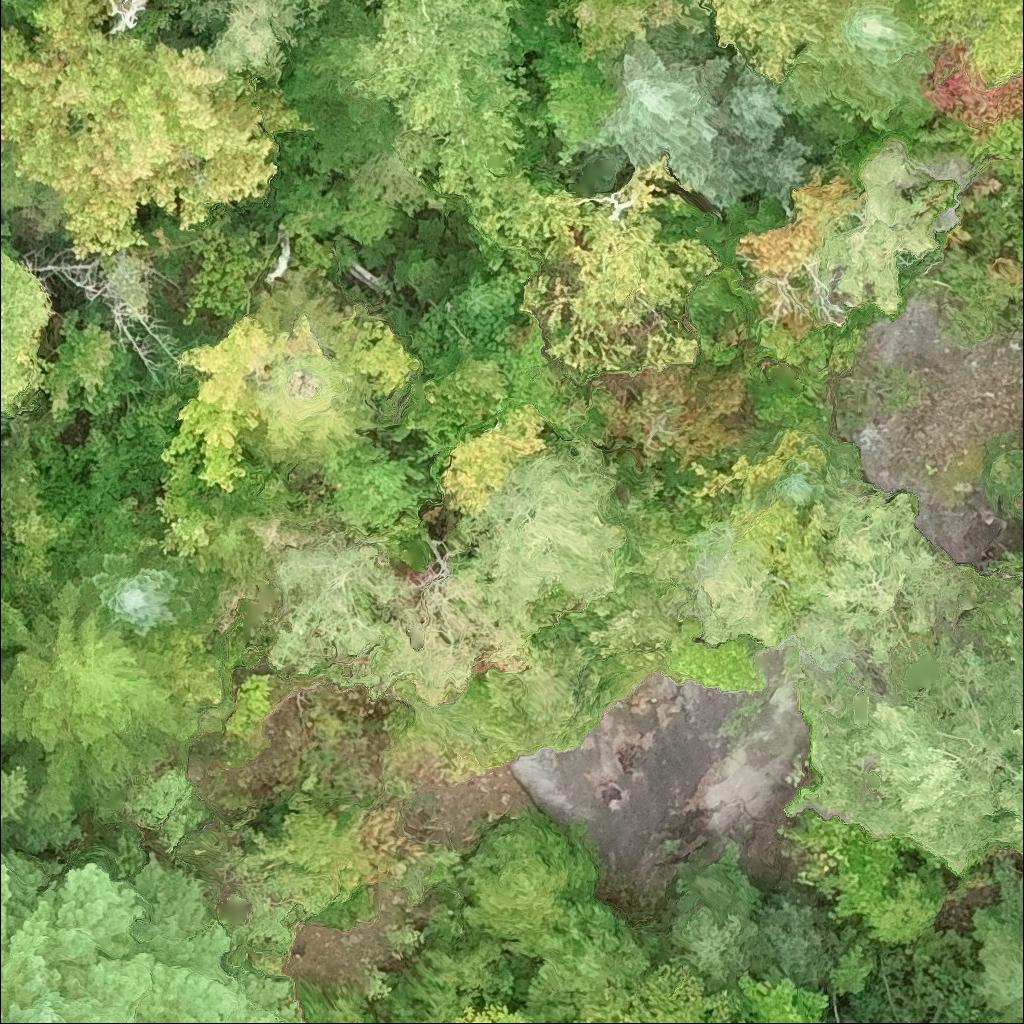crown: (788, 490, 1023, 874), (0, 0, 316, 265), (0, 841, 314, 1023), (468, 159, 721, 373), (0, 577, 203, 823), (350, 0, 541, 198), (453, 438, 638, 637), (584, 34, 755, 207), (268, 531, 408, 701), (780, 0, 940, 147), (161, 314, 292, 492), (454, 805, 602, 955), (390, 567, 552, 703), (244, 353, 383, 479), (512, 895, 660, 1008), (71, 533, 213, 636), (180, 0, 335, 93), (738, 158, 858, 275), (686, 0, 848, 85), (30, 307, 148, 422), (554, 953, 738, 1023), (438, 403, 547, 521), (527, 35, 615, 168), (539, 0, 707, 62), (0, 246, 57, 420), (917, 0, 1023, 85), (124, 767, 210, 858), (410, 922, 517, 991), (726, 50, 796, 147), (992, 655, 1023, 859), (739, 131, 815, 200), (385, 968, 468, 1023), (0, 762, 29, 836), (450, 998, 533, 1023), (107, 0, 150, 35), (0, 0, 33, 39)
